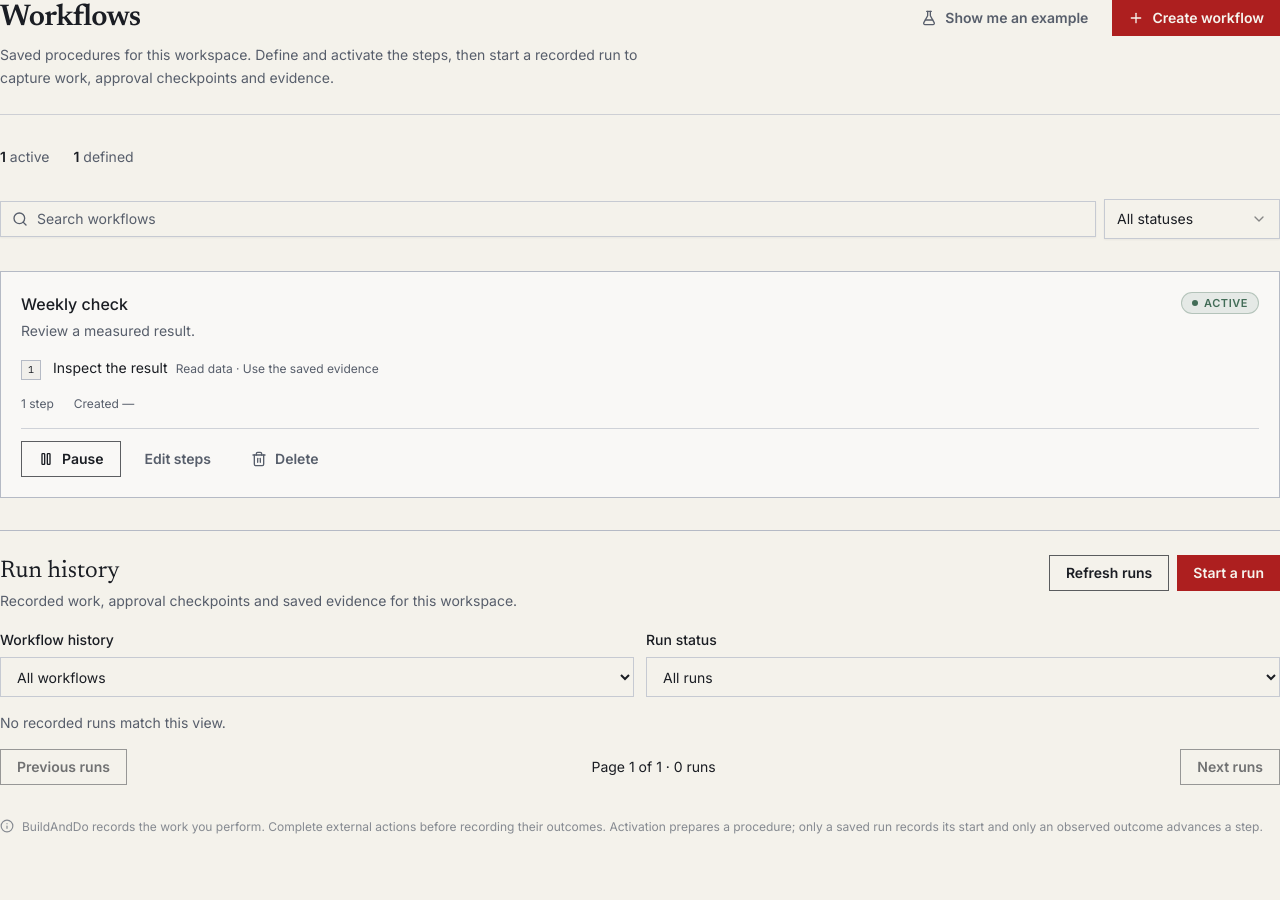
it: workflow run history and start › updates the workflow card previous-work receipt after a successful start
Expected: the text "1 recorded workflow run" is not shown
Click the button "Start a run" at (1229, 573), box [1177, 555, 1279, 591]
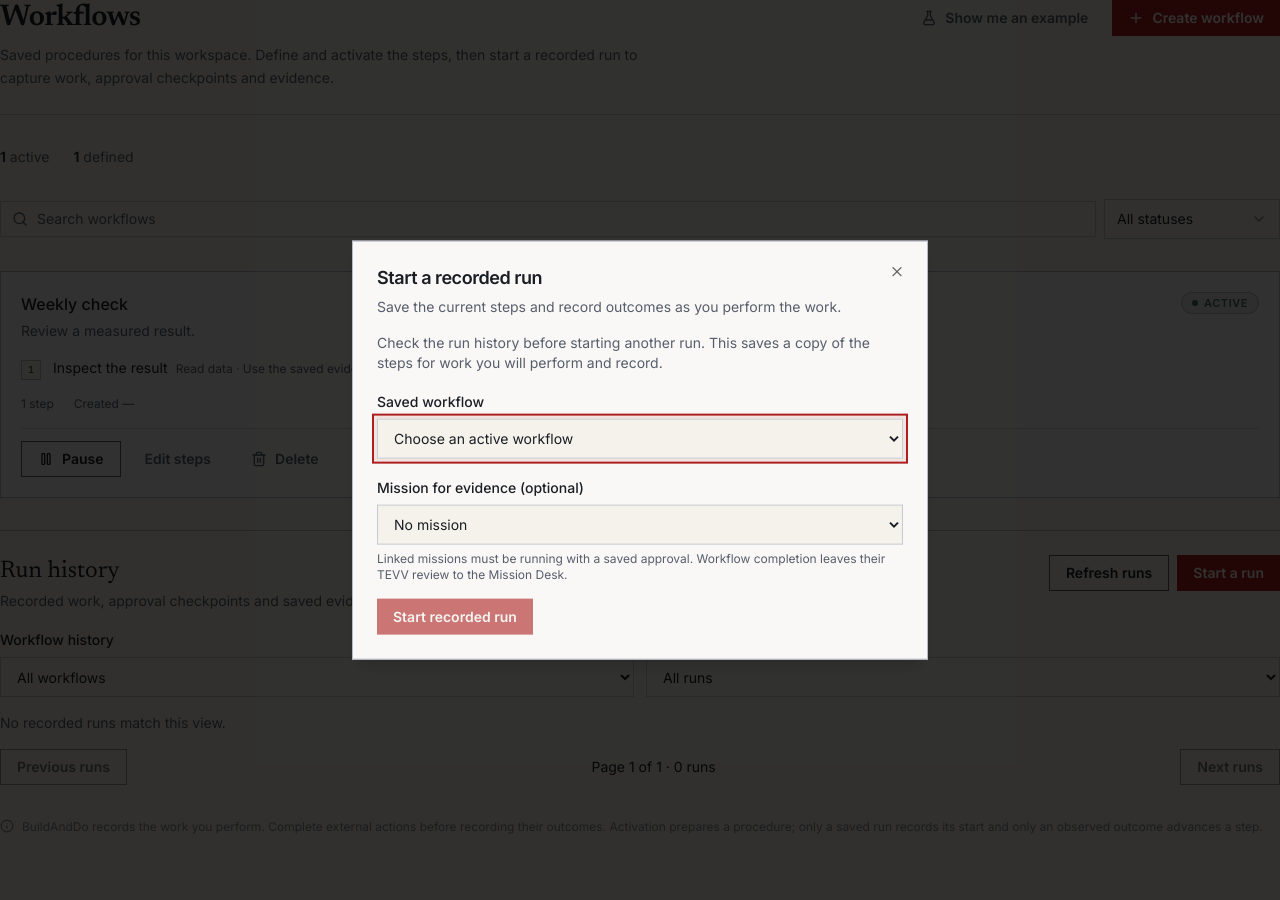
Select "Weekly check" in the dropdown labelled "Saved workflow" at (640, 438), box [377, 418, 903, 458]
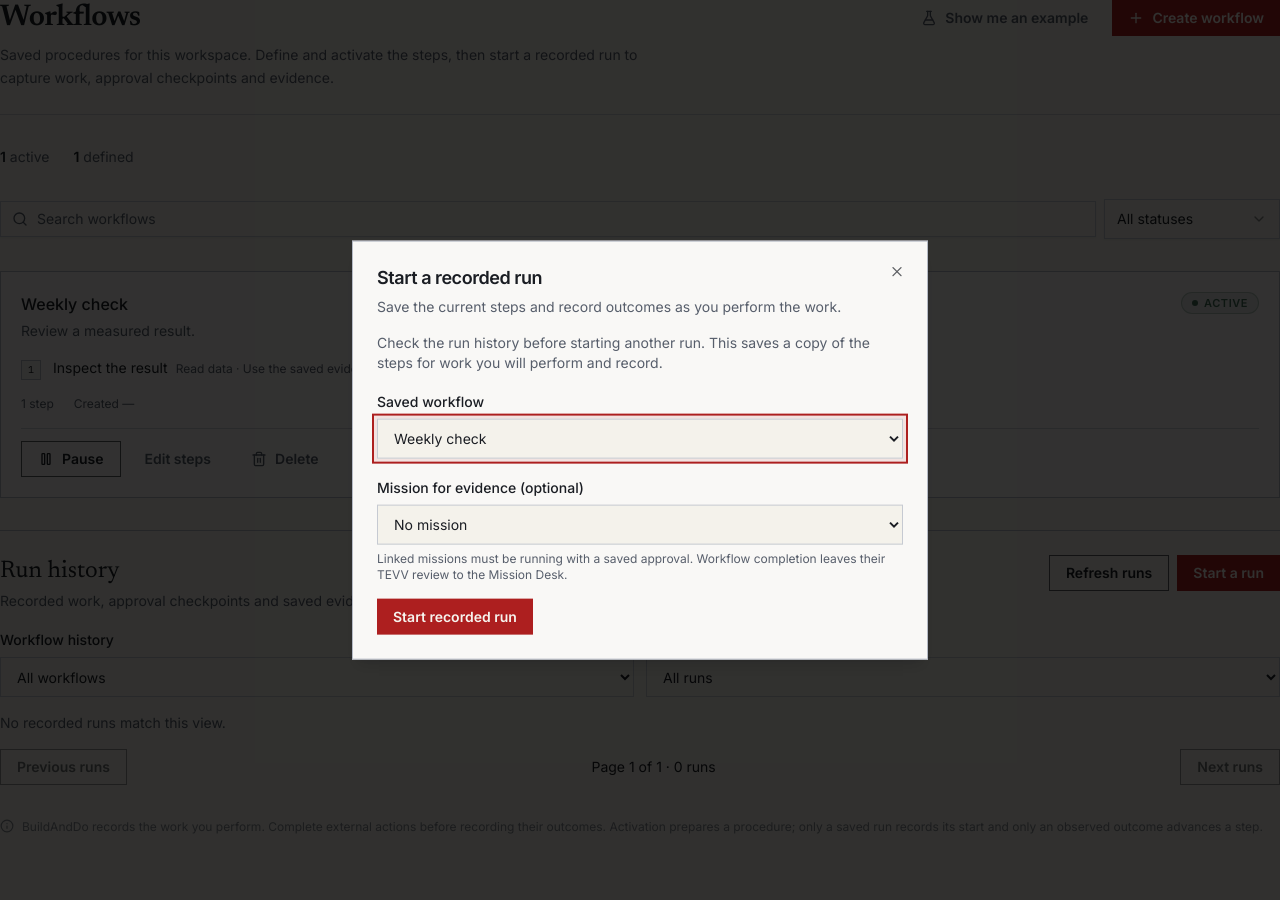
Click the button "Start recorded run" at (455, 616), box [377, 598, 533, 634]
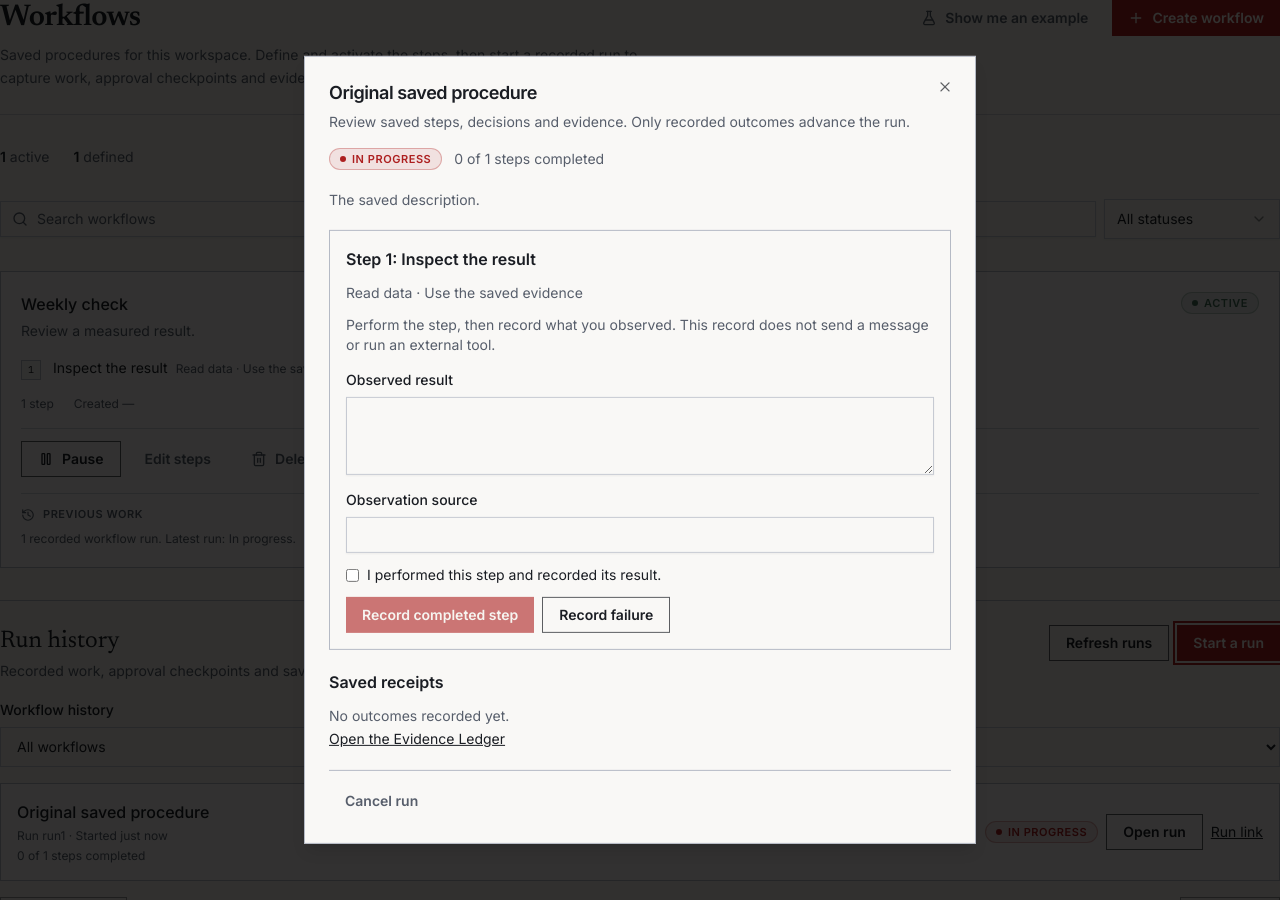
Expected: the text "1 recorded workflow run. Latest run: In progress." is shown, [21, 531, 296, 546]
